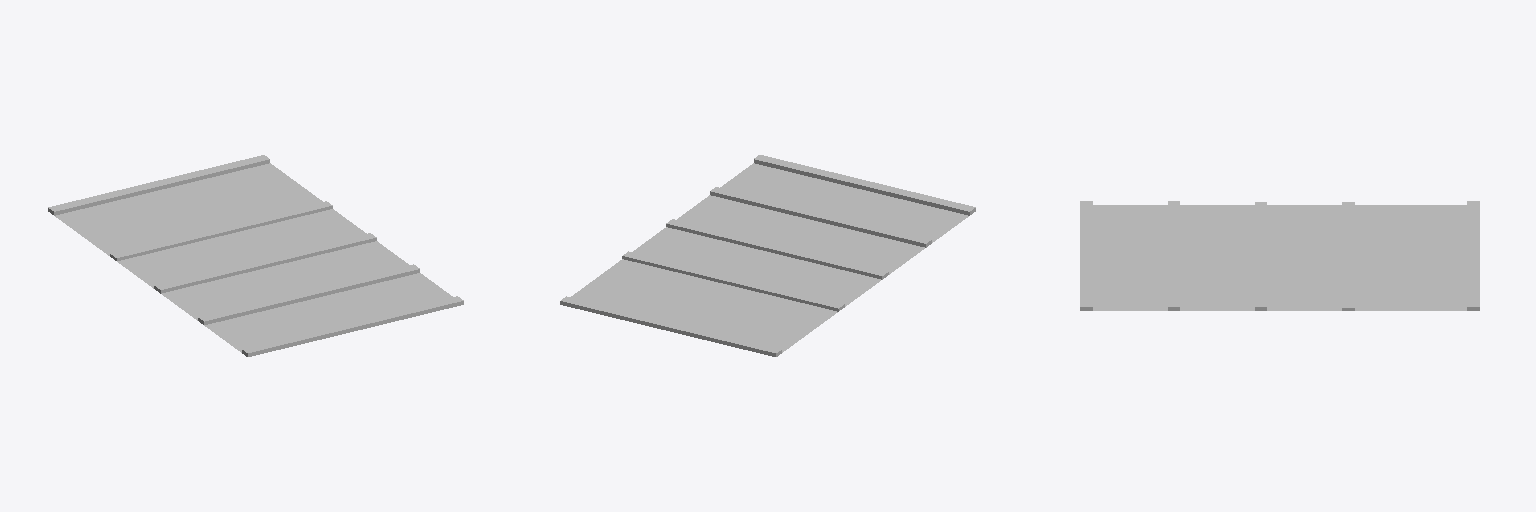
Rendered from car park.obj.
The picture shows the model from 3 angles: view 1: azimuth 30°, elevation 25°; view 2: azimuth 150°, elevation 25°; view 3: azimuth 270°, elevation 25°; orthographic projection.
Parts seen in each view (by area): view 1: Plane; view 2: Plane; view 3: Plane.
Part boxes in pixels (x1,y1,x2,y2): Plane: (48, 155, 463, 356); Plane: (560, 155, 975, 356); Plane: (1080, 201, 1479, 310).
Bounding box in the file's own units: 7.46 × 0.1341 × 11.94.